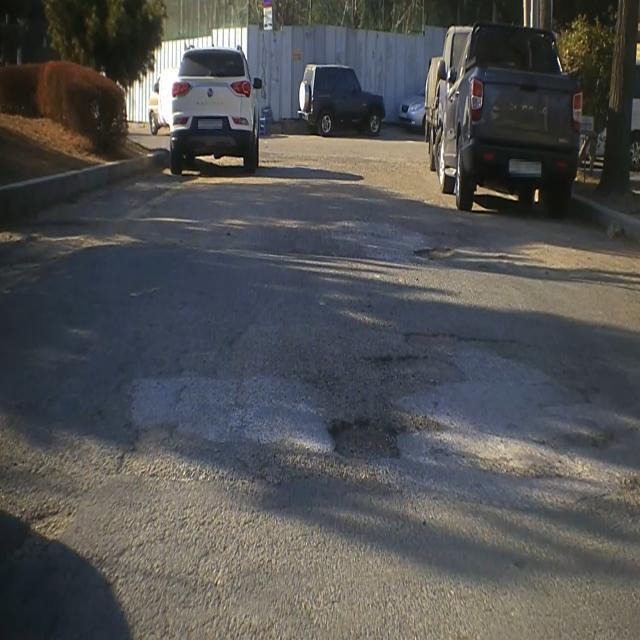pothole: (320, 405, 413, 470), (404, 327, 521, 352), (364, 345, 443, 377)
